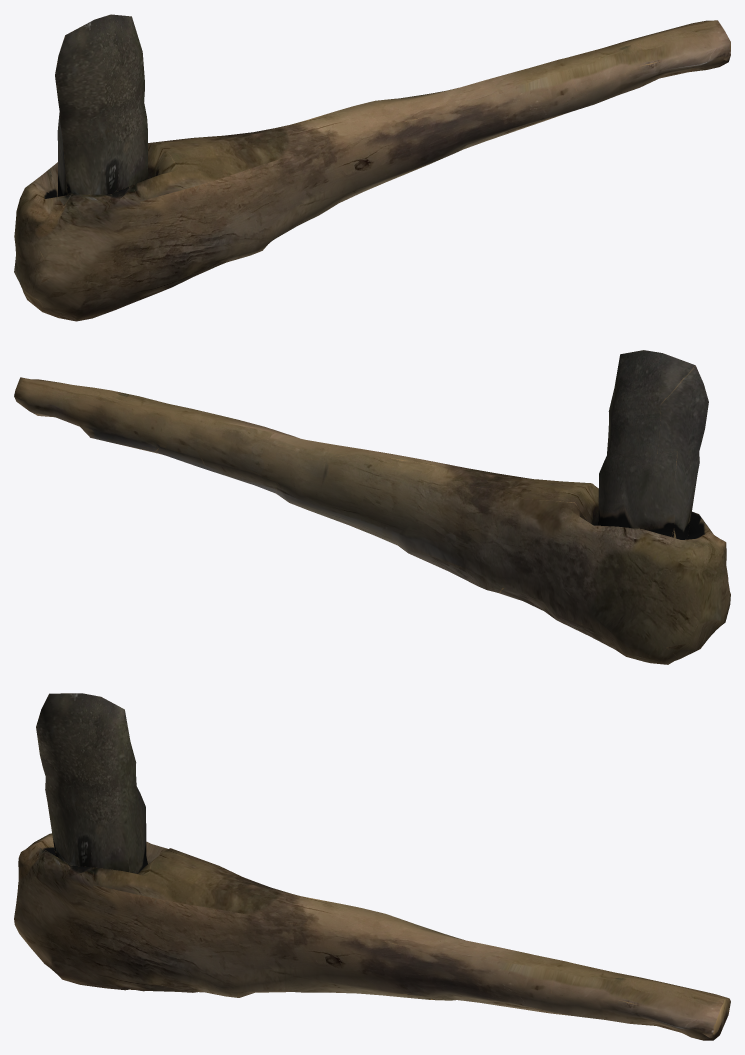
File: Hacha.obj
3 renders of one model, top to bottom at view 1: azimuth 30°, elevation 25°; view 2: azimuth 150°, elevation 25°; view 3: azimuth 330°, elevation 25°, orthographic. The views are drawn at different scales.
Parts seen in each view (by area): view 1: TexturedMesh; view 2: TexturedMesh; view 3: TexturedMesh.
Boxes of the visible parts, box(x1,y1,x2,y2) form: TexturedMesh: box(14, 14, 730, 321); TexturedMesh: box(14, 350, 730, 664); TexturedMesh: box(14, 693, 730, 1040).
Size of the model in its own units: 1.27 by 0.515 by 0.1634.
Materials: 1 (1 with a texture image).
